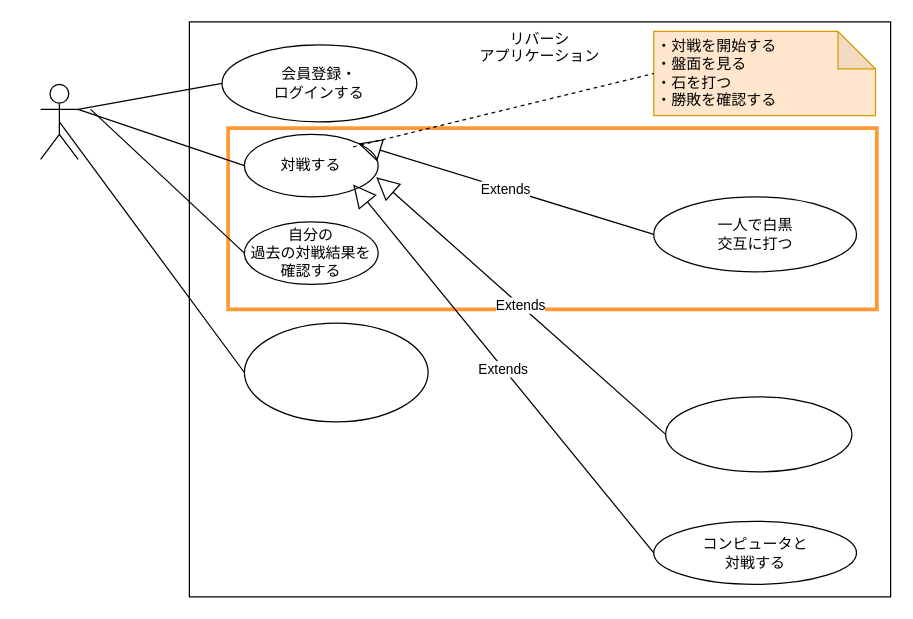
Image size: 913x619. Some labels were removed from this diagram. Here are the shapes that lost their labels. From the top down, the centre of each, then its label:
At [58,121]: "プレイヤー".
At [335,372]: "プレイヤーの ランキングを 確認する".
At [758,434]: "他のプレイヤーと 対戦する".
